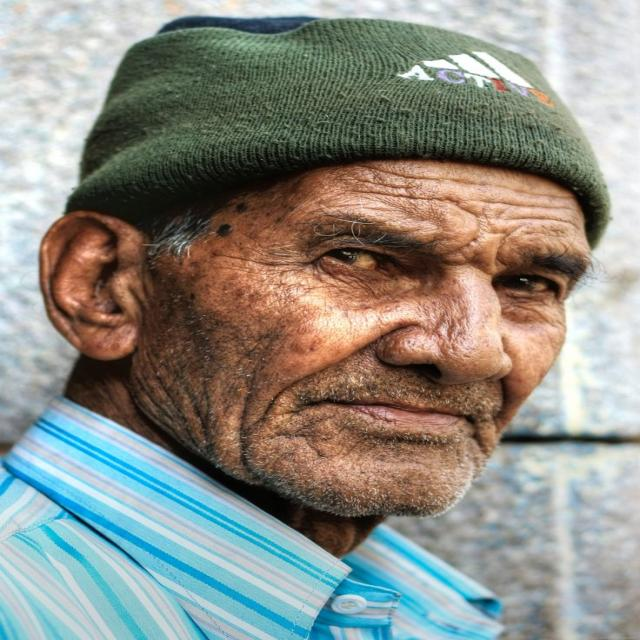earlobe: (84, 314, 134, 362)
eye: (322, 246, 394, 275), (496, 271, 560, 295)
nose: (371, 359, 508, 414)
wholeear: (39, 212, 145, 361)
